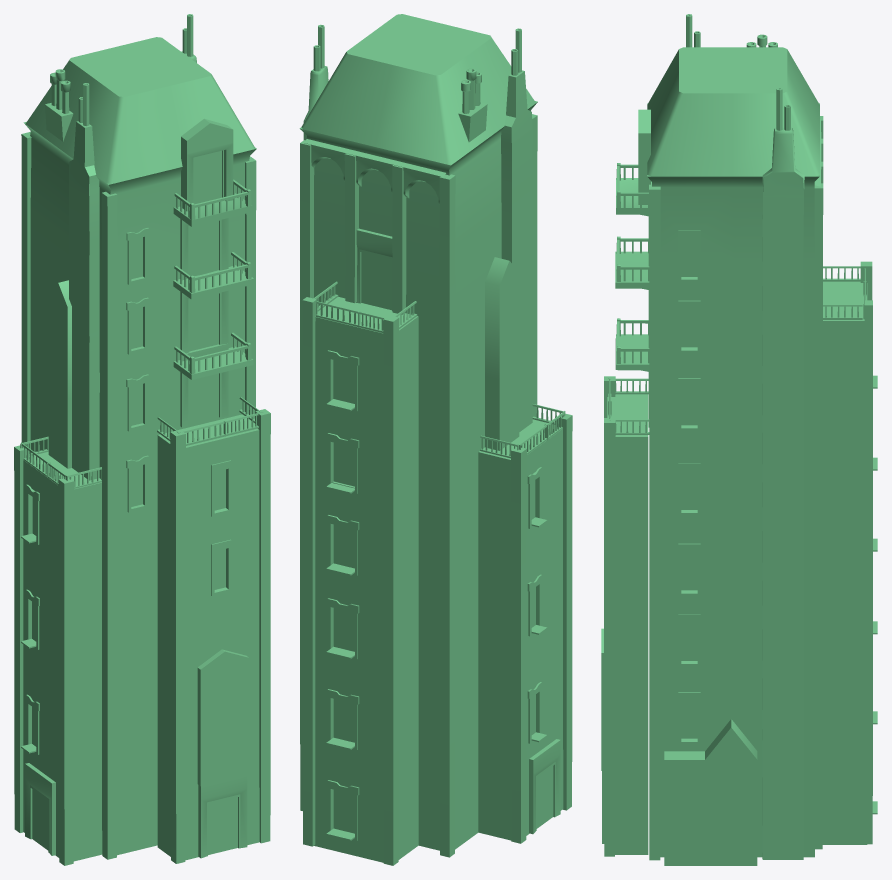
File: Bgr_Building7.fbx
The picture shows the model from 3 angles, left to right: view 1: azimuth 30°, elevation 25°; view 2: azimuth 150°, elevation 25°; view 3: azimuth 270°, elevation 25°; orthographic projection. The views are drawn at different scales.
Parts seen in each view (by area): view 1: Bgr_Building7; view 2: Bgr_Building7; view 3: Bgr_Building7.
Part boxes in pixels (box(x1,y1,x2,y2)): Bgr_Building7: box(14, 14, 270, 865); Bgr_Building7: box(299, 14, 572, 865); Bgr_Building7: box(601, 14, 877, 865).
Size of the model in its own units: 1321 by 4713 by 1532.
